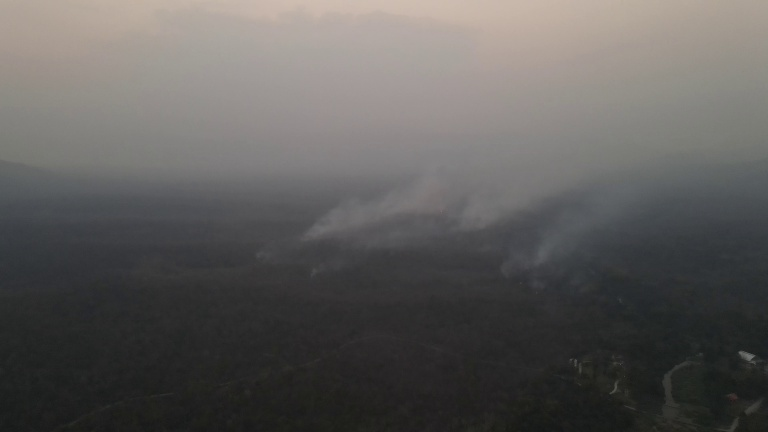fire: (437, 207, 444, 215)
smoke: (291, 133, 619, 285)
